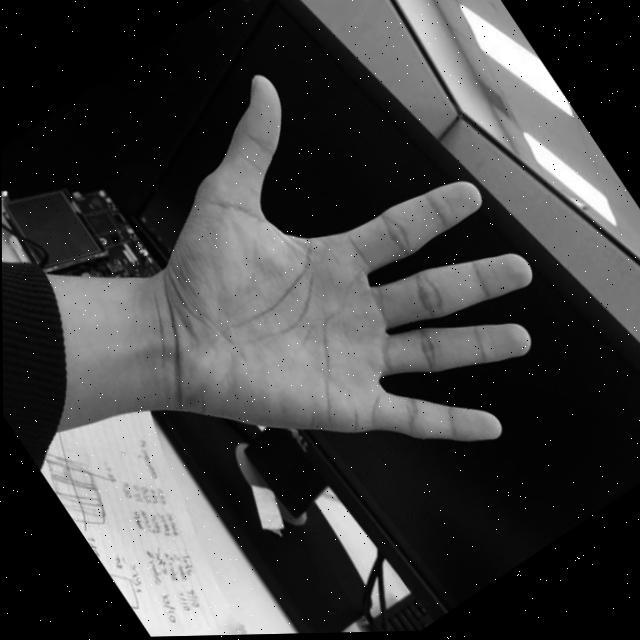no-gloves: (48, 0, 606, 584)
